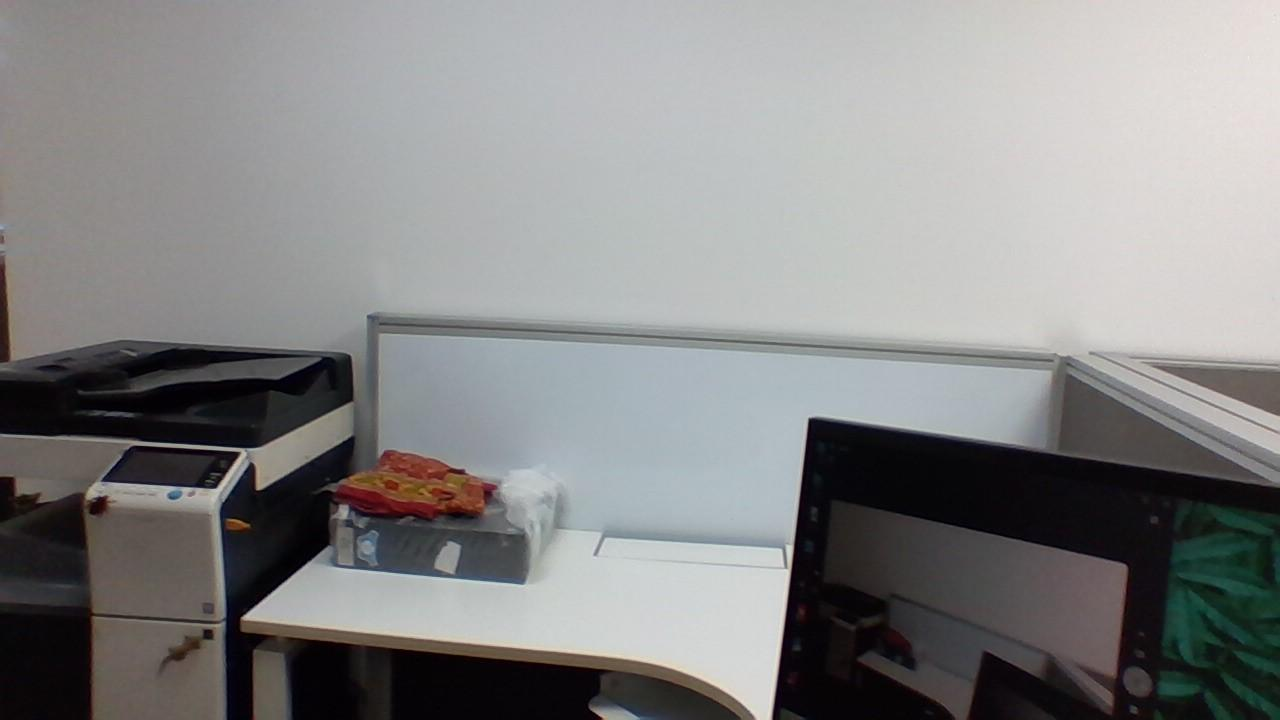cockroach: (83, 485, 114, 535)
lizard: (146, 622, 212, 691)
